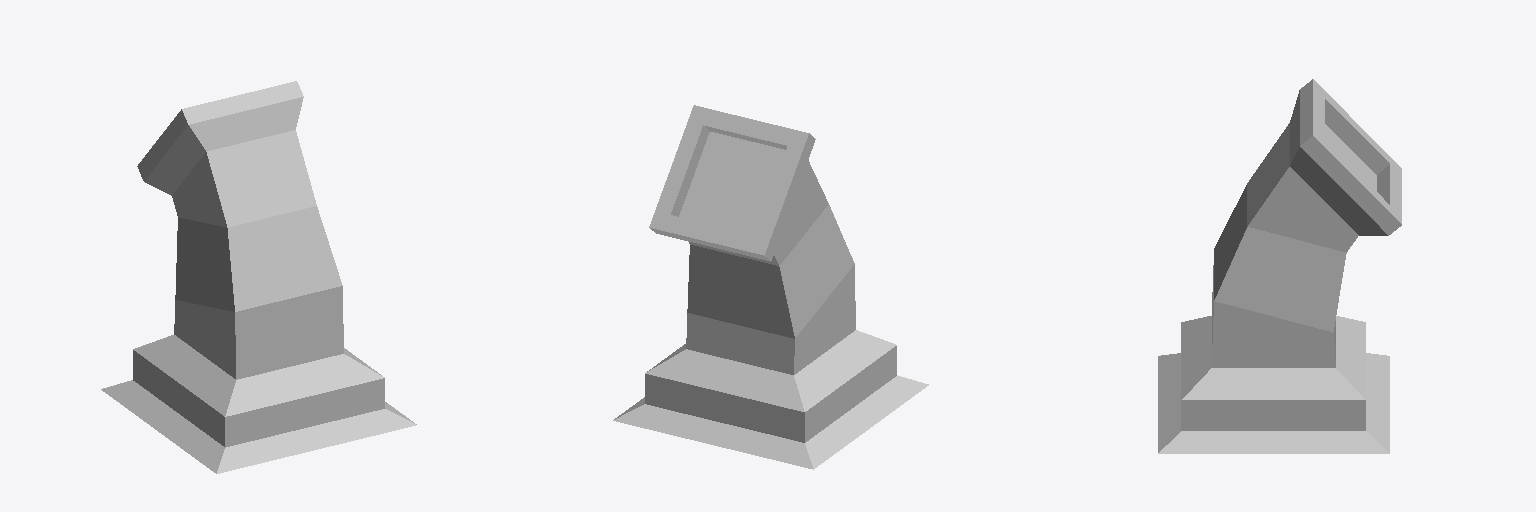
File: inset_test.obj
3 renders of one model, left to right at view 1: azimuth 30°, elevation 25°; view 2: azimuth 150°, elevation 25°; view 3: azimuth 270°, elevation 25°, orthographic.
Visible parts, largest first — view 1: target_c_Plane.003; view 2: target_c_Plane.003; view 3: target_c_Plane.003.
Boxes of the visible parts, x1=… form: target_c_Plane.003: x1=101, y1=81, x2=416, y2=473; target_c_Plane.003: x1=613, y1=105, x2=928, y2=469; target_c_Plane.003: x1=1158, y1=79, x2=1401, y2=453.
Bounding box in the file's own units: 2 × 2.83 × 2.11.